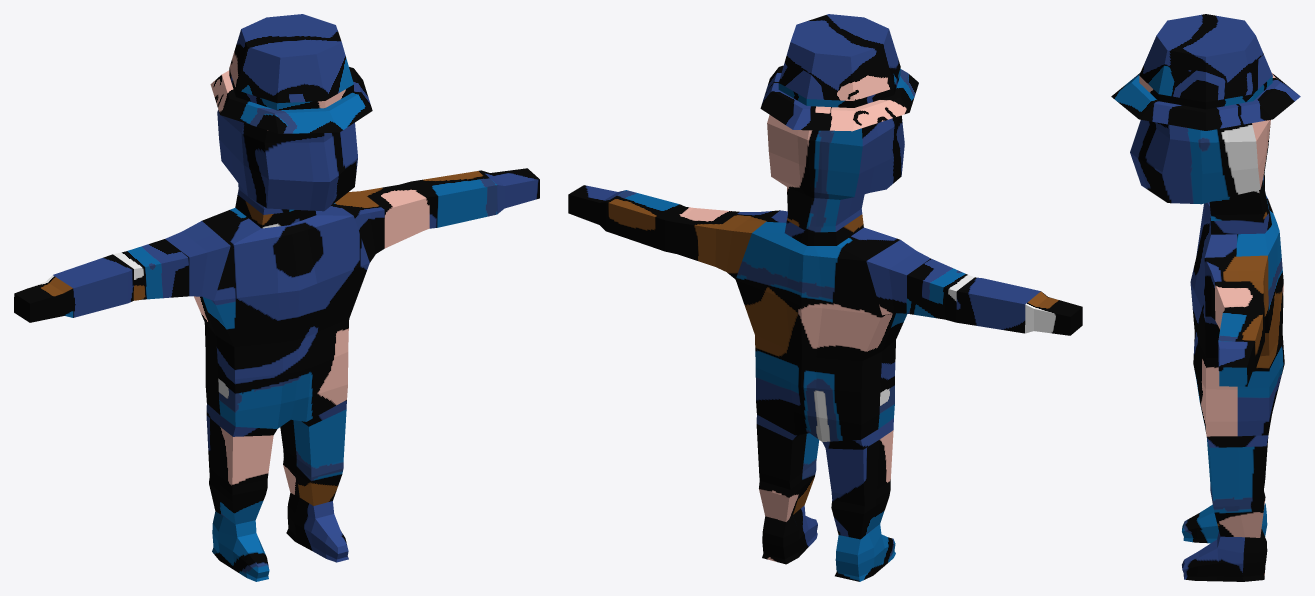
The model's file is FBXMc.fbx.
The picture shows the model from 3 angles, left to right: view 1: azimuth 30°, elevation 25°; view 2: azimuth 150°, elevation 25°; view 3: azimuth 270°, elevation 25°; orthographic projection. The views are drawn at different scales.
Visible parts, largest first — view 1: CenayangSaktiModel.002; view 2: CenayangSaktiModel.002; view 3: CenayangSaktiModel.002.
Boxes of the visible parts, <box> form: CenayangSaktiModel.002: <box>14,14,539,581</box>; CenayangSaktiModel.002: <box>568,14,1082,581</box>; CenayangSaktiModel.002: <box>1111,14,1300,581</box>.
Bounding box in the file's own units: 1.13 × 1.11 × 0.3649.
1 material, 1 textured.
